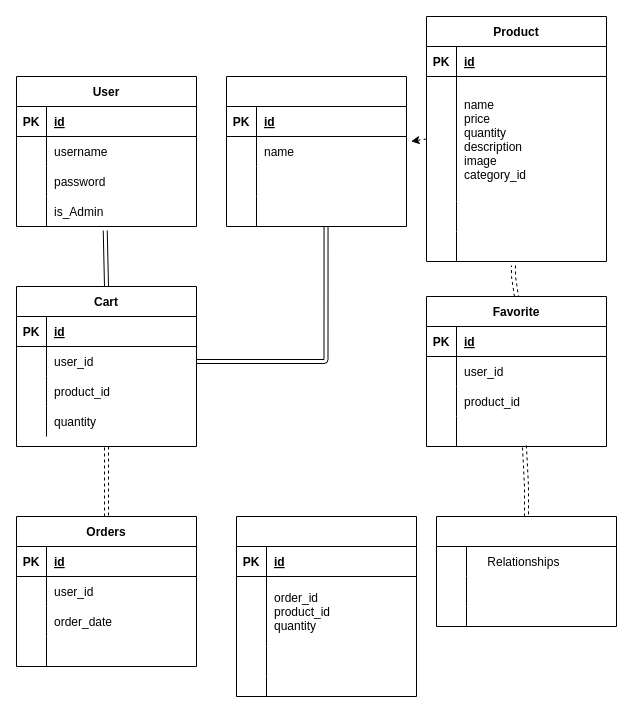
The diagram is 633 pixels wide and 713 high, and some of its shapes have lost their labels. The shapes that lost their labels are listed below. From the top down, each one's box as (x1, y1, x2, y2) in pixels, then its label:
(226, 76, 406, 226): Categories
(436, 516, 616, 626): Many to Many
(236, 516, 416, 696): Order_Items
